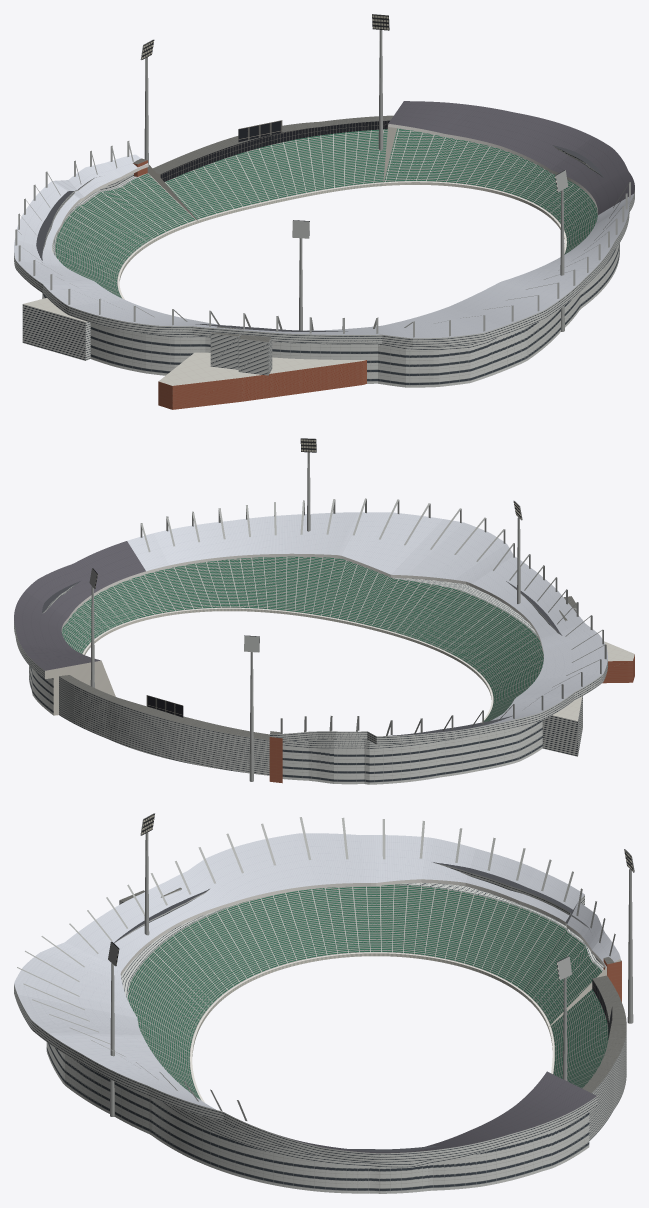
Rendered from subiaco_C_nofield.glb.
The picture shows the model from 3 angles, top to bottom: view 1: azimuth 30°, elevation 25°; view 2: azimuth 150°, elevation 25°; view 3: azimuth 270°, elevation 25°; orthographic projection. The views are drawn at different scales.
Parts seen in each view (by area): view 1: subiacoC; view 2: subiacoC; view 3: subiacoC.
Boxes of the visible parts, x1=… form: subiacoC: x1=14, y1=14, x2=634, y2=409; subiacoC: x1=14, y1=438, x2=634, y2=784; subiacoC: x1=14, y1=813, x2=634, y2=1193.
Bounding box in the file's own units: 271 × 68.95 × 228.
14 materials, 14 textured.
